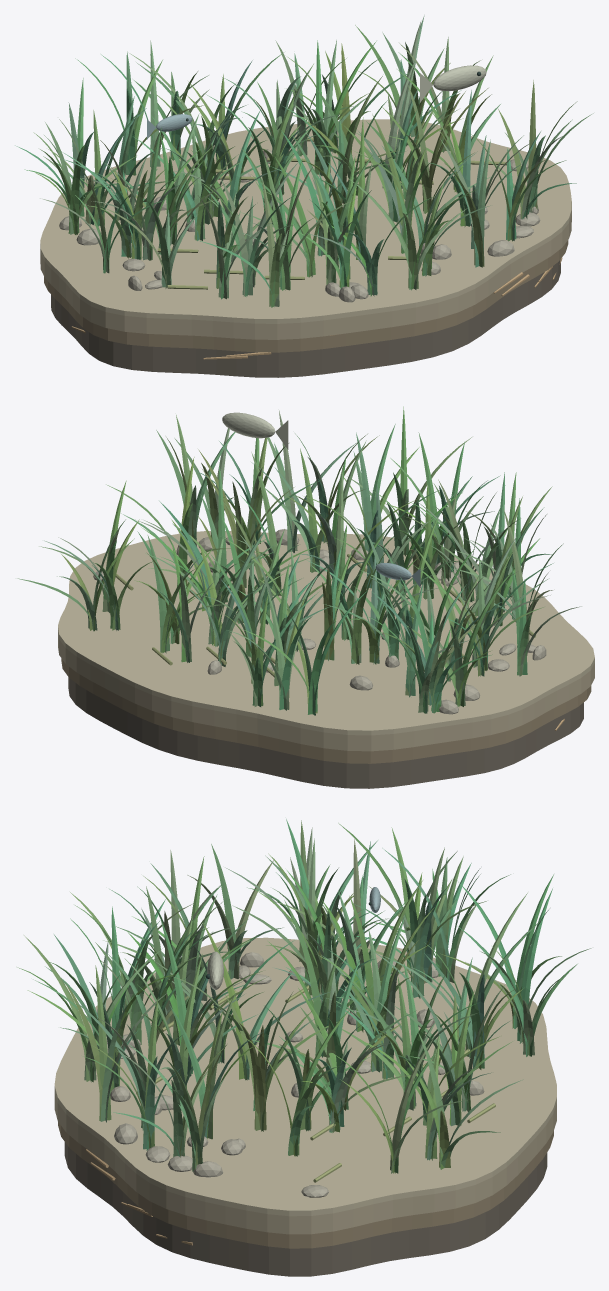
File: seagrass.glb
The picture shows the model from 3 angles, top to bottom: view 1: azimuth 30°, elevation 25°; view 2: azimuth 150°, elevation 25°; view 3: azimuth 270°, elevation 25°; orthographic projection. The views are drawn at different scales.
Visible parts, largest first — view 1: world; view 2: world; view 3: world.
Part boxes in pixels (x1=…): world: x1=15, y1=15, x2=593, y2=377; world: x1=17, y1=406, x2=594, y2=788; world: x1=17, y1=819, x2=591, y2=1276.
Bounding box in the file's own units: 1.8 × 0.7498 × 1.55.
